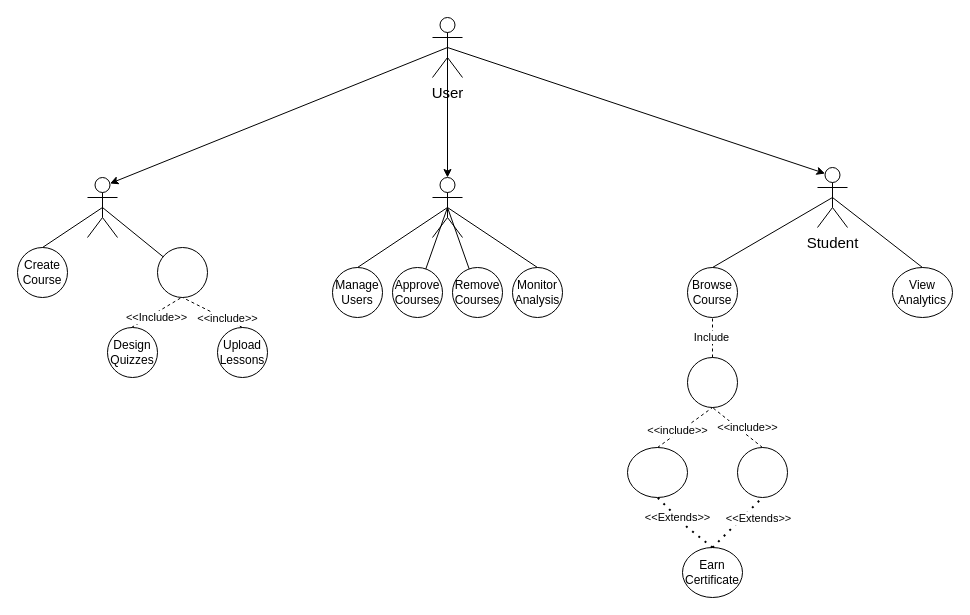
Image size: 970x615. Some labels were removed from this diagram. Each missing label, with the box of its shape:
Admin: (432, 176, 462, 238)
Complete Lessons: (626, 446, 688, 498)
Enroll in Course: (686, 356, 738, 408)
Instructor: (86, 176, 118, 238)
Manage Course: (156, 246, 208, 298)
Take Quizzes: (736, 446, 788, 498)
